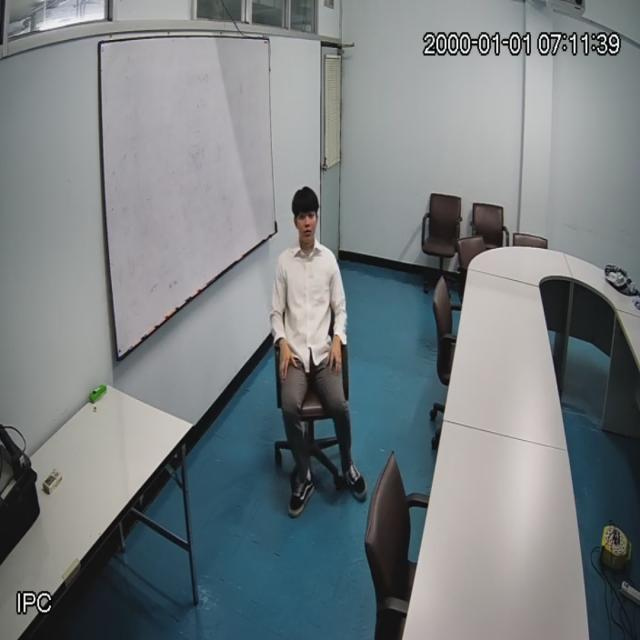normal: (272, 182, 374, 518)
